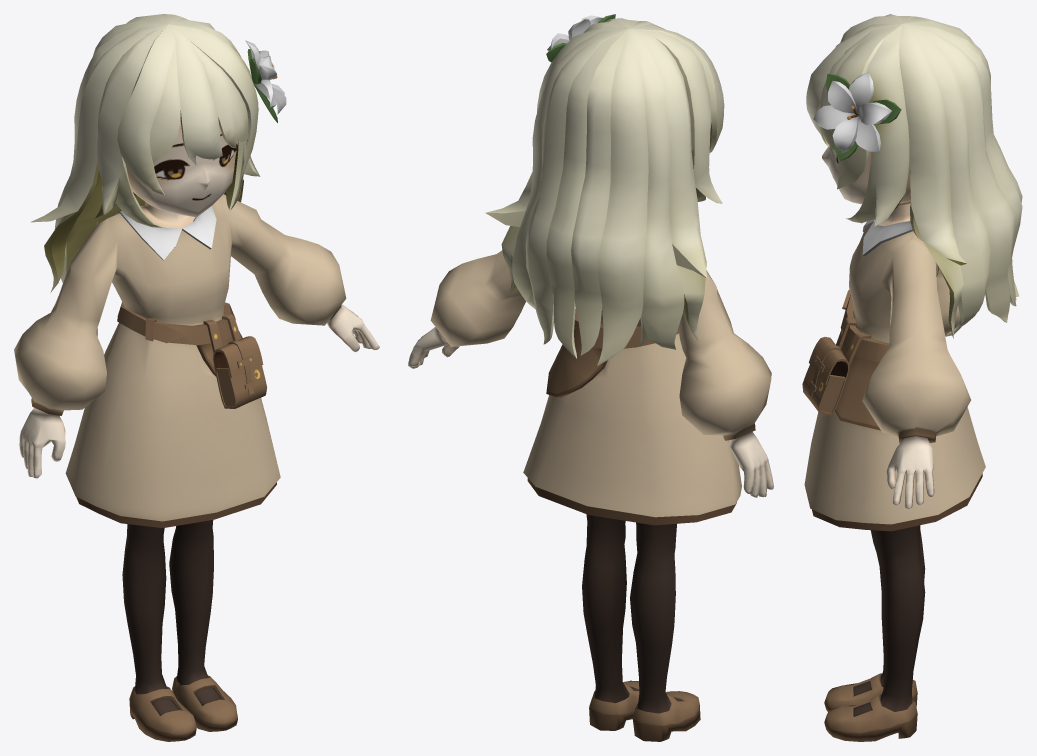
File: riry.fbx
3 views of the same model, side by side, from view 1: azimuth 30°, elevation 25°; view 2: azimuth 150°, elevation 25°; view 3: azimuth 270°, elevation 25° (orthographic). The views are drawn at different scales.
Parts seen in each view (by area): view 1: riry.001; view 2: riry.001; view 3: riry.001.
Boxes of the visible parts, x1,y1,x2,y2 form: riry.001: (14, 14, 379, 741); riry.001: (408, 14, 773, 741); riry.001: (802, 14, 1022, 741).
Bounding box in the file's own units: 60.37 × 114 × 32.63.
1 material, 1 textured.
